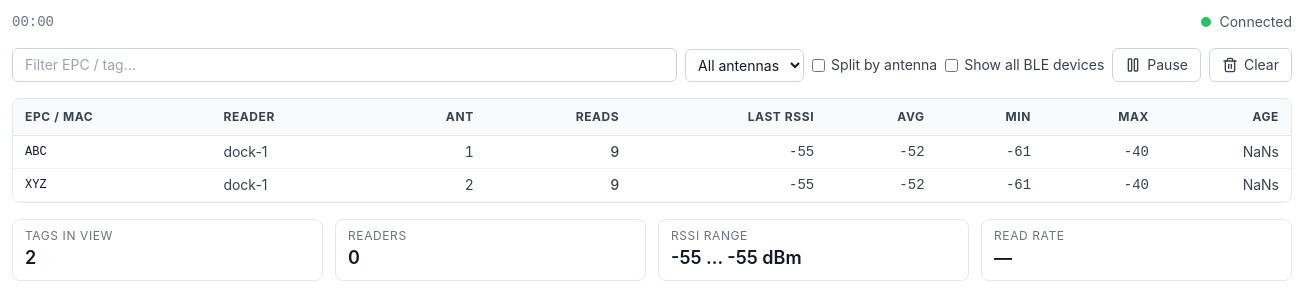
Test case: LiveReadsFeed › Clear resets the antenna filter to All antennas (TRA-999)
Select "Ant 1" in the dropdown named "Antenna filter": (745, 65) left=685, top=48, right=804, bottom=82
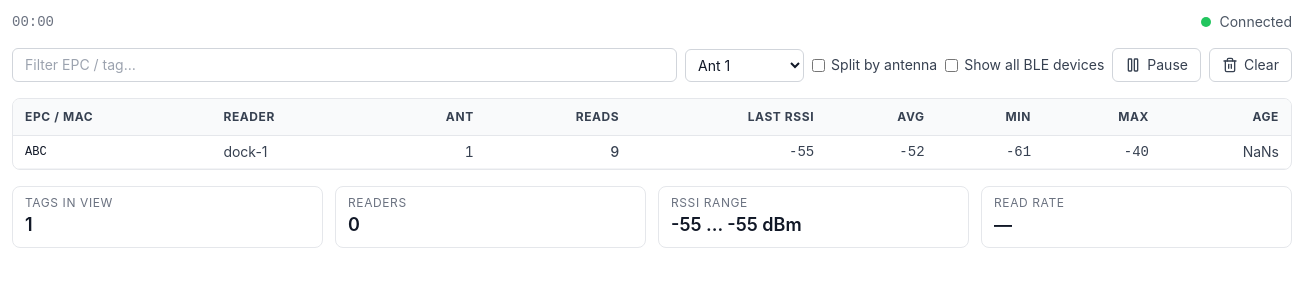
Check: the text "XYZ" is gone
Click the button "Clear": (1250, 65) left=1209, top=48, right=1292, bottom=82
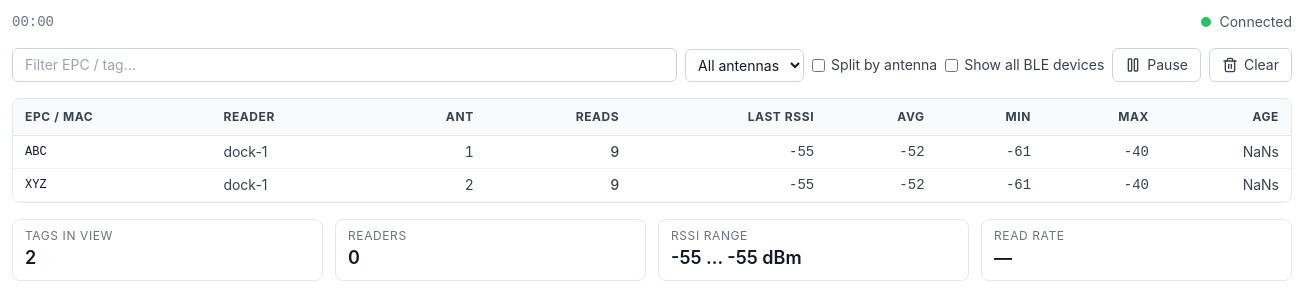
Check: the text "XYZ" is shown, box left=13, top=168, right=211, bottom=202
